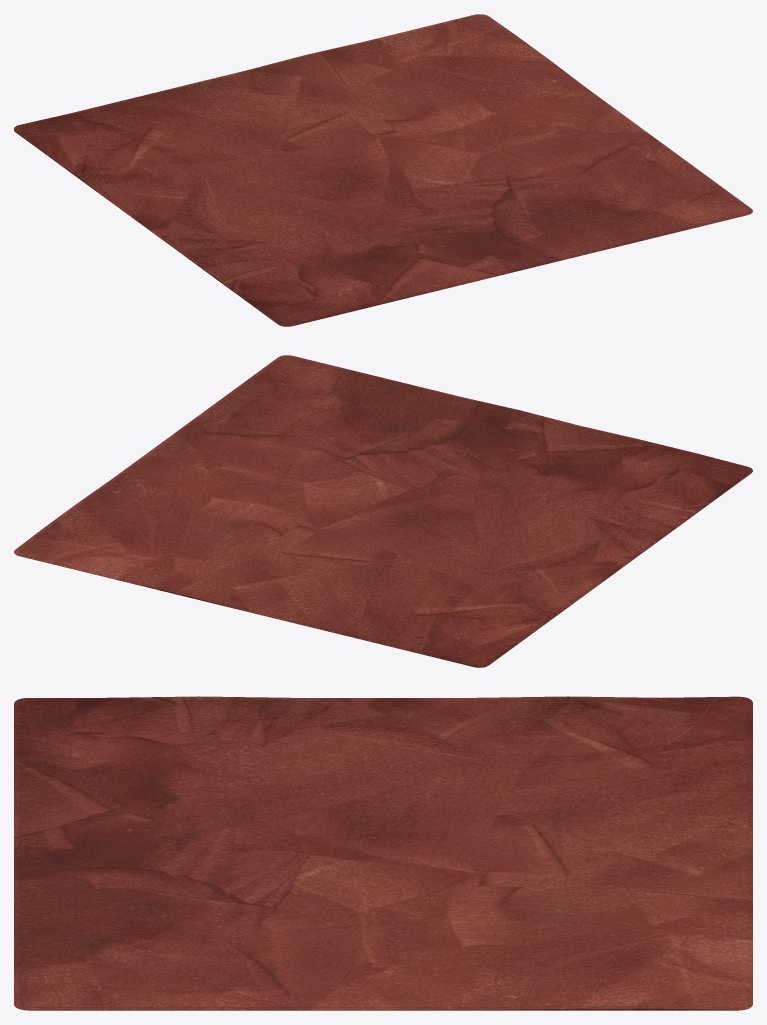
The model's file is Textile_rug_01.glb.
3 renders of one model, top to bottom at view 1: azimuth 30°, elevation 25°; view 2: azimuth 150°, elevation 25°; view 3: azimuth 270°, elevation 25°, orthographic. The views are drawn at different scales.
Visible parts, largest first — view 1: rug_01; view 2: rug_01; view 3: rug_01.
Boxes of the visible parts, x1,y1,x2,y2 form: rug_01: (14, 14, 752, 326); rug_01: (14, 355, 752, 667); rug_01: (14, 696, 752, 1010).
Bounding box in the file's own units: 2 × 0.0065 × 2.
1 material, 1 textured.
